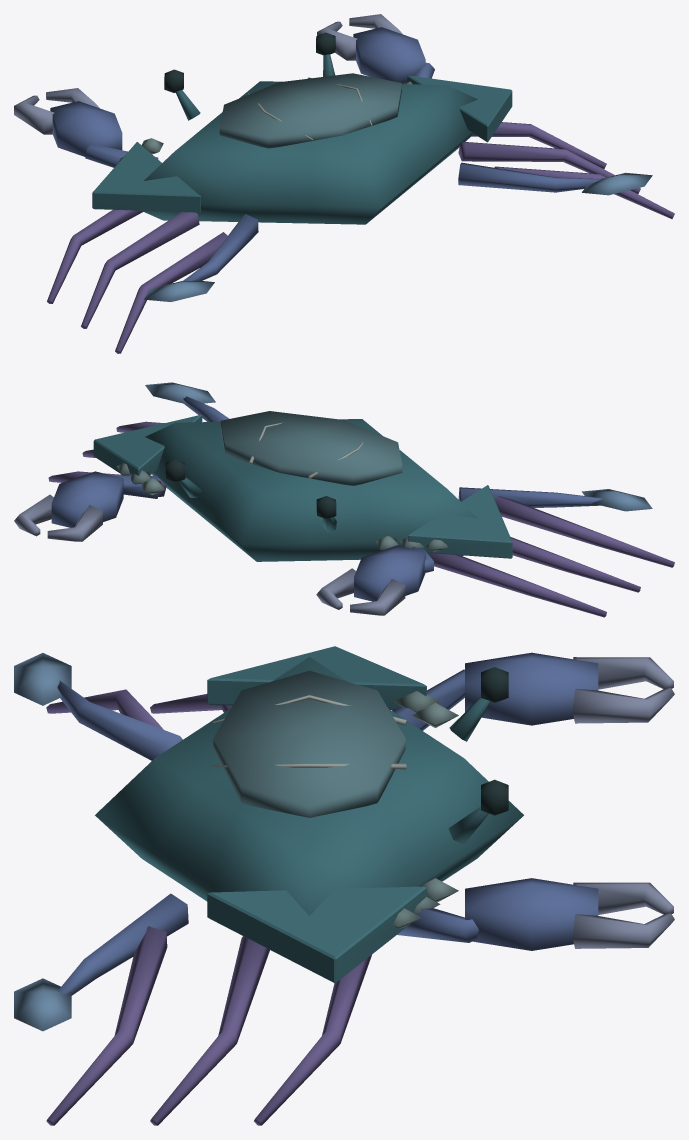
File: fish_blue_crab.glb
3 renders of one model, top to bottom at view 1: azimuth 30°, elevation 25°; view 2: azimuth 150°, elevation 25°; view 3: azimuth 270°, elevation 25°, orthographic. The views are drawn at different scales.
Bounding box in the file's own units: 0.2393 × 0.0528 × 0.1606.
